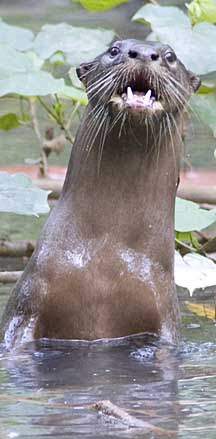otter: (51, 29, 209, 230)
